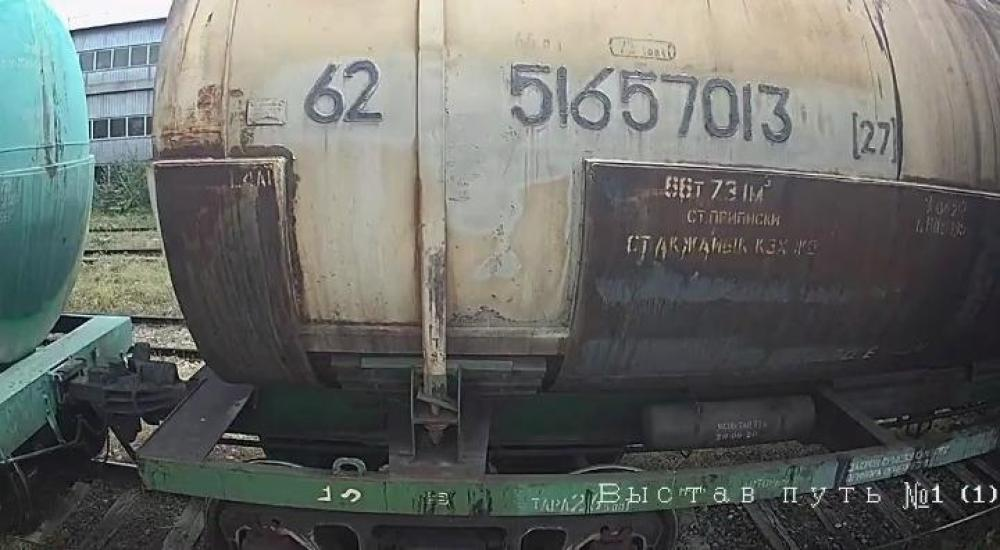Wagon-number: (504, 57, 800, 151)
